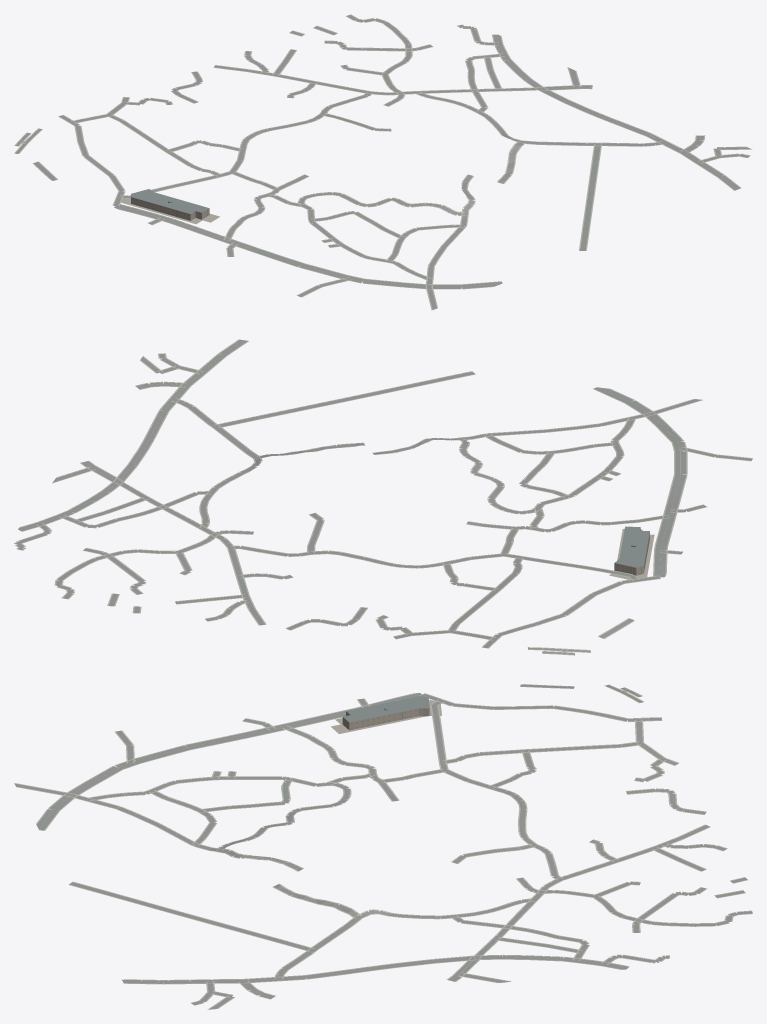
3 views of the same model, one above another, from view 1: azimuth 30°, elevation 25°; view 2: azimuth 150°, elevation 25°; view 3: azimuth 270°, elevation 25° (orthographic). The views are drawn at different scales.
Parts seen in each view (by area): view 1: context-osm-roads, context-osm-sidewalks, context-osm-buildings; view 2: context-osm-roads, context-osm-sidewalks, context-osm-buildings; view 3: context-osm-roads, context-osm-sidewalks, context-osm-buildings.
Part boxes in pixels (x1=…): context-osm-roads: x1=15, y1=15, x2=750, y2=309; context-osm-sidewalks: x1=14, y1=14, x2=752, y2=310; context-osm-buildings: x1=131, y1=189, x2=209, y2=220; context-osm-roads: x1=15, y1=339, x2=752, y2=654; context-osm-sidewalks: x1=14, y1=339, x2=752, y2=655; context-osm-buildings: x1=614, y1=526, x2=649, y2=575; context-osm-roads: x1=15, y1=684, x2=752, y2=1009; context-osm-sidewalks: x1=14, y1=684, x2=752, y2=1009; context-osm-buildings: x1=342, y1=696, x2=429, y2=730.
Size of the model in its own units: 819 by 23.61 by 804.
